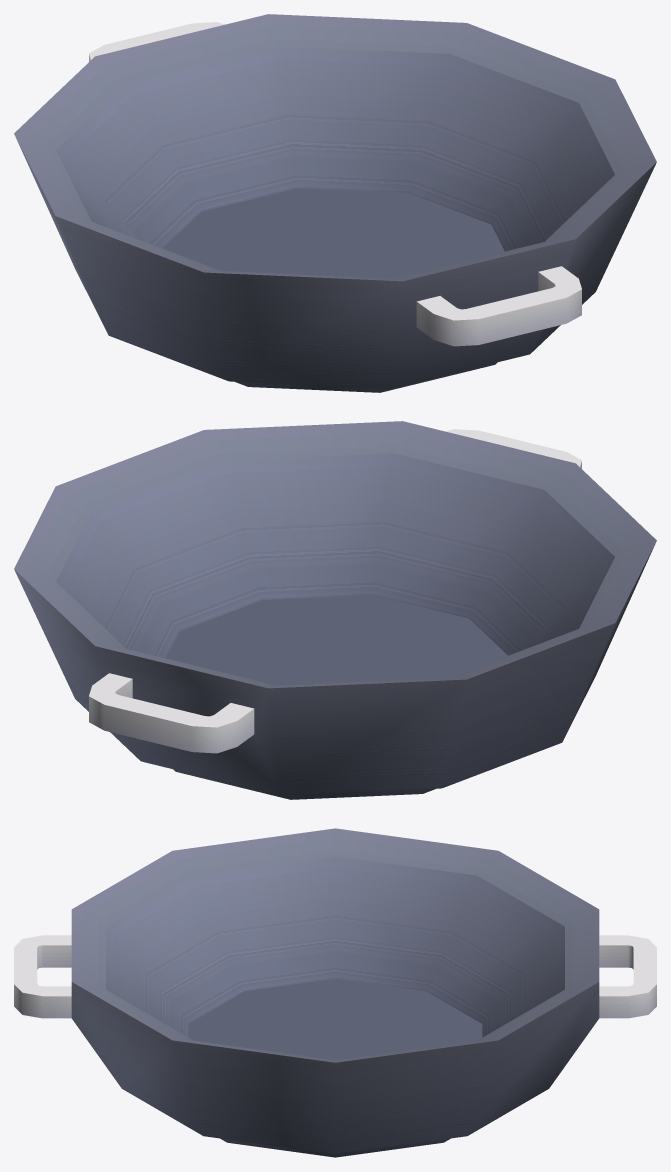
Rendered from pan.glb.
The picture shows the model from 3 angles, top to bottom: view 1: azimuth 30°, elevation 25°; view 2: azimuth 150°, elevation 25°; view 3: azimuth 270°, elevation 25°; orthographic projection. The views are drawn at different scales.
Parts seen in each view (by area): view 1: pan; view 2: pan; view 3: pan.
Part boxes in pixels (x1,y1,x2,y2): pan: (14,14,656,392); pan: (14,421,656,799); pan: (14,828,656,1157).
Size of the model in its own units: 0.6574 by 0.1754 by 0.7621.
Materials: 1 (1 with a texture image).
